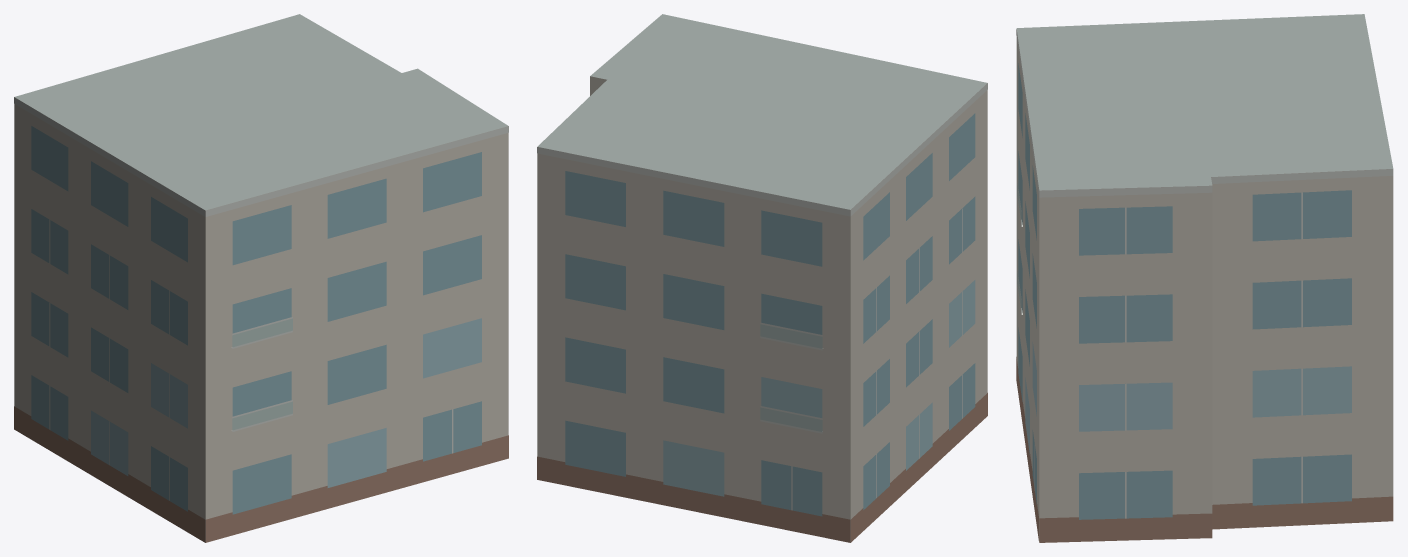
The model's file is survey-upis-32971294.glb.
The picture shows the model from 3 angles, left to right: view 1: azimuth 30°, elevation 25°; view 2: azimuth 150°, elevation 25°; view 3: azimuth 270°, elevation 25°; orthographic projection. The views are drawn at different scales.
Parts seen in each view (by area): view 1: survey-upis-32971294.tmp; view 2: survey-upis-32971294.tmp; view 3: survey-upis-32971294.tmp.
Part boxes in pixels (x1,y1,x2,y2): survey-upis-32971294.tmp: (14,14,508,542); survey-upis-32971294.tmp: (537,14,987,542); survey-upis-32971294.tmp: (1016,14,1393,542).
Bounding box in the file's own units: 13.12 × 12.2 × 11.84.
